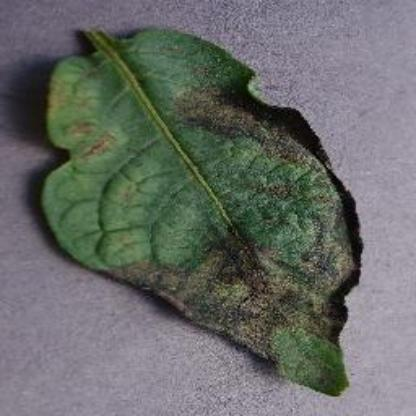Late-Blight: (23, 14, 362, 402)
